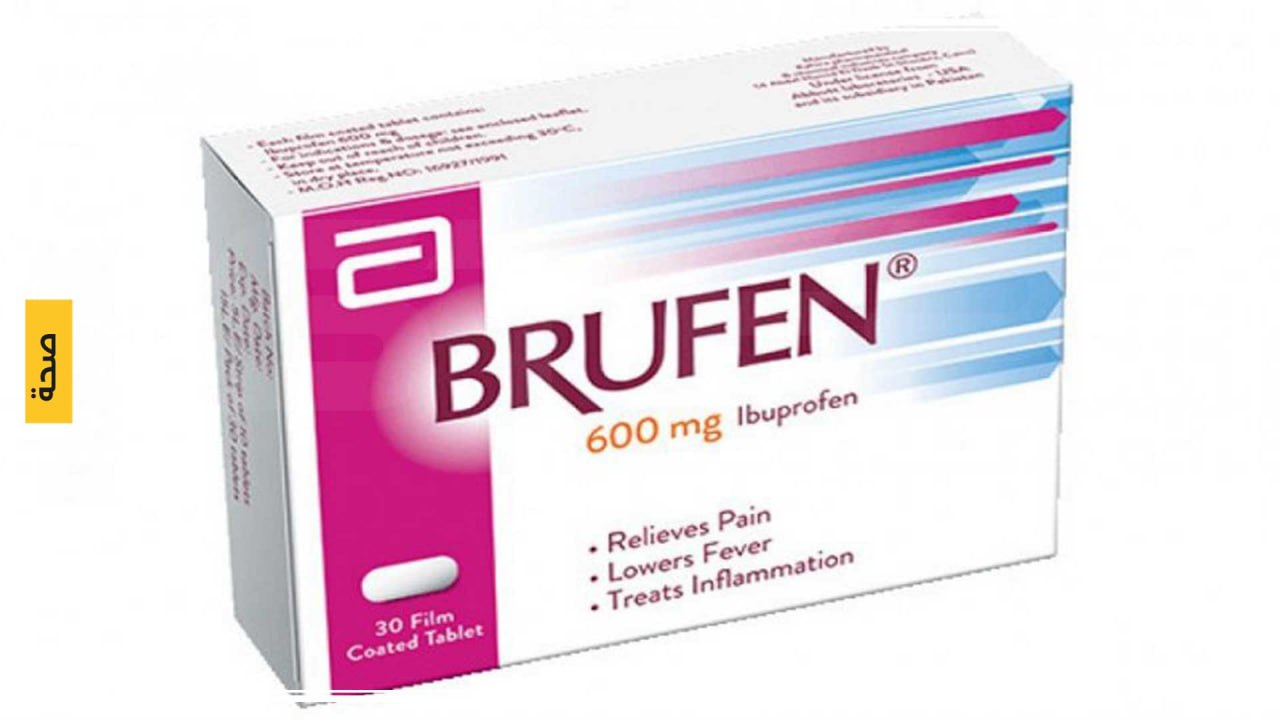Medicine: (192, 10, 1088, 718)
